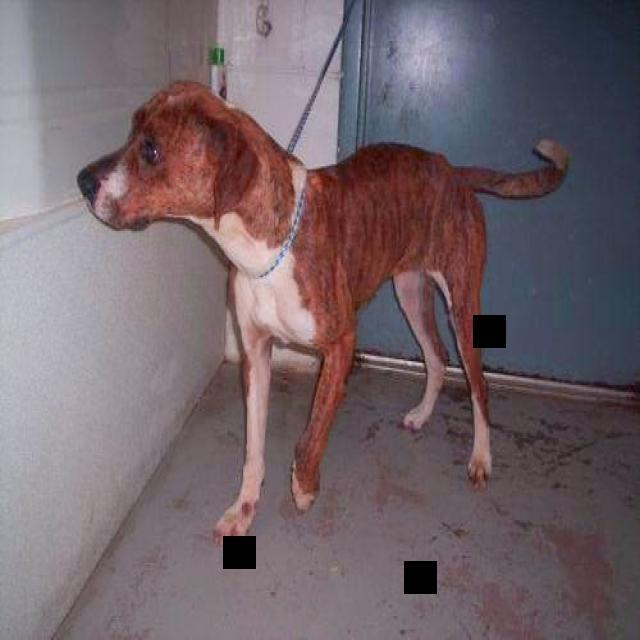adult_dog: (75, 84, 568, 548)
